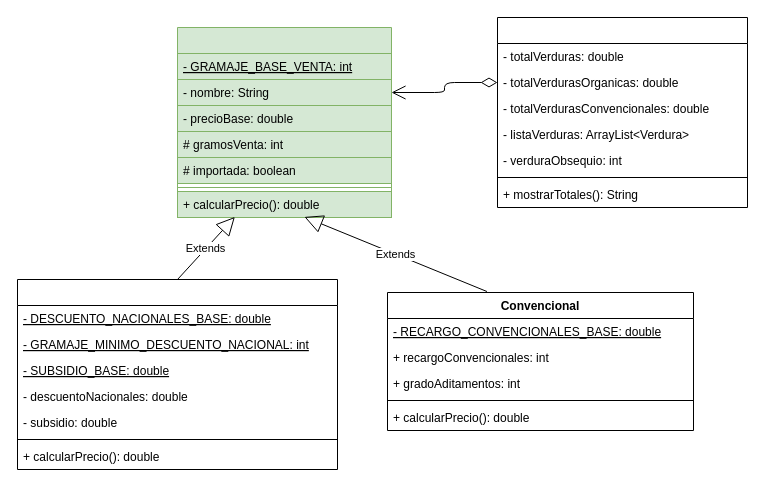
Some shapes in this 765 by 490 pixel diagram are drawn without their labels. Each missing label, with the box of its shape:
CarritoCompras: (496, 16, 748, 208)
Orgánica: (16, 278, 338, 470)
Verdura: (176, 26, 392, 218)
